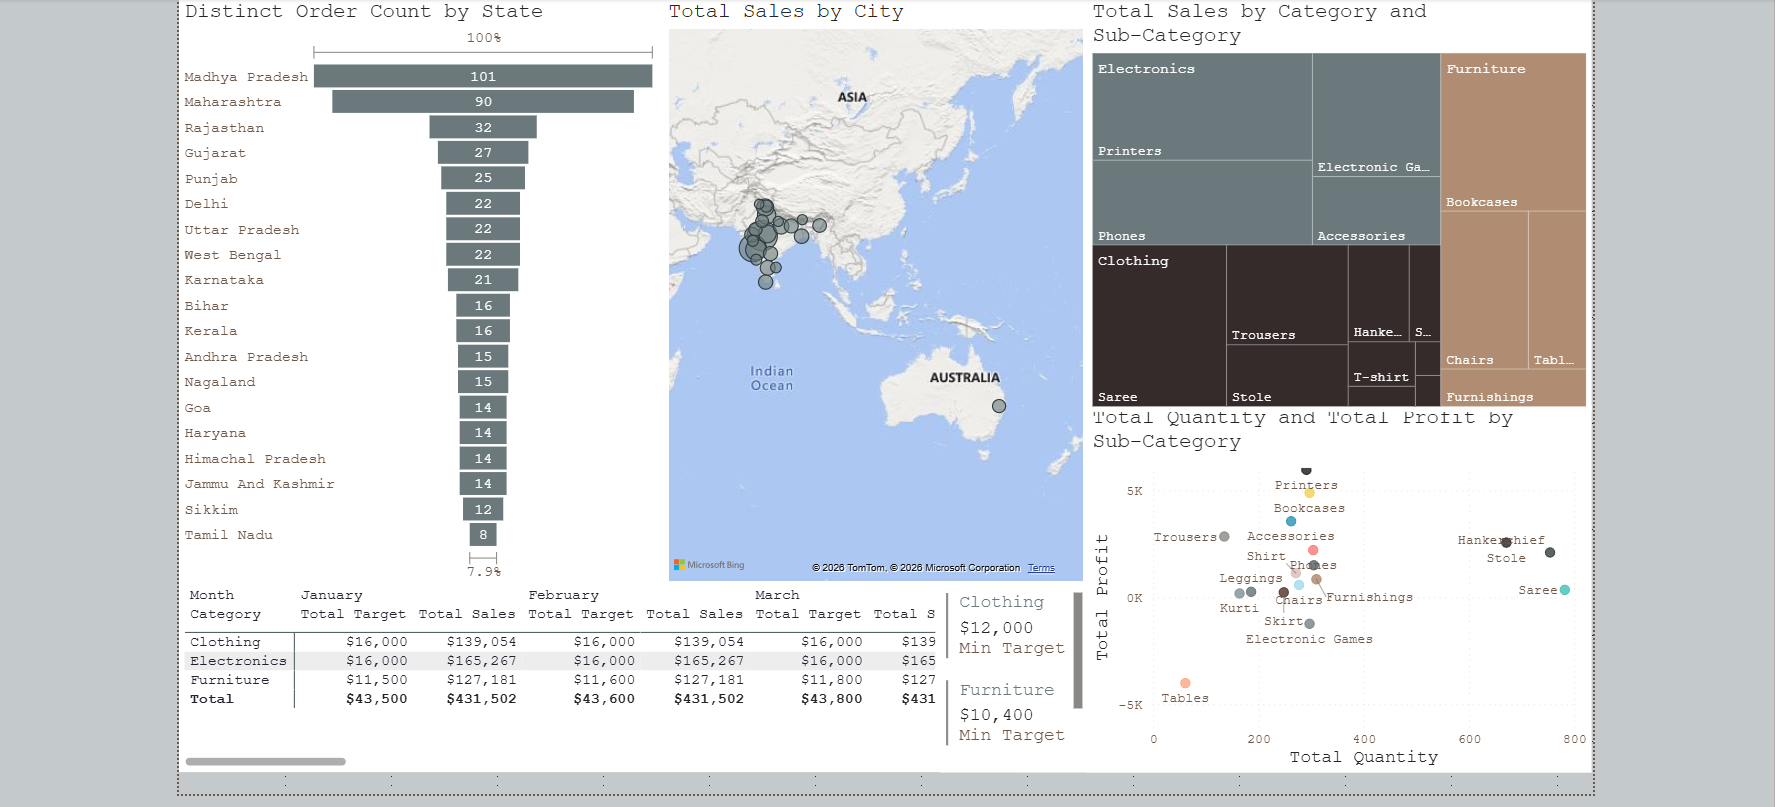

What the dashboard file says about the page in this screenshot:
{"tool":"powerbi","page":{"name":"Assignemnt 2","canvas":[1280,720],"ordinal":2},"visuals":[{"type":"scatterChart","fields":{"X":["Calculated Measures.Total Quantity"],"Y":["Calculated Measures.Total Profit"],"Series":["Order Details.Sub-Category"]},"box":[822.7,367.5,457.3,333.4],"z":0},{"type":"pivotTable","fields":{"Rows":["Sales target.Category"],"Columns":["Sales target.Month of Order Date.Variation.Date Hierarchy.Month"],"Values":["Calculated Measures.Total Target","Calculated Measures.Total Sales"]},"box":[0,526.5,689.5,174.5],"z":1000},{"type":"map","fields":{"Size":["Calculated Measures.Total Sales"],"Category":["List of Orders.City"]},"box":[438.4,0,385,532.5],"z":2000},{"type":"treemap","fields":{"Group":["Order Details.Category"],"Values":["Calculated Measures.Total Sales"],"Details":["Order Details.Sub-Category"]},"box":[822.4,0,457.2,374.1],"z":3000},{"type":"multiRowCard","fields":{"Values":["Calculated Measures.Min Target","Sales target.Category"]},"box":[689.5,532.6,134.2,168.3],"z":4000},{"type":"funnel","fields":{"Category":["List of Orders.State"],"Y":["Calculated Measures.Distinct Order Count"]},"box":[0,0,438.7,532.6],"z":5000}]}

Visuals, with their boxes on the page's 1280x720 design canvas (x1, y1, x2, y2). These are canvas units, not pixel positions in the 1775x807 screenshot, which may show the page scaled, cropped or inside an application window:
scatterChart - Calculated Measures.Total Quantity x Calculated Measures.Total Profit: 823 368 1280 701
pivotTable - Sales target.Category x Sales target.Month of Order Date.Variation.Date Hierarchy.Month: 0 526 690 701
map - Calculated Measures.Total Sales x List of Orders.City: 438 0 823 532
treemap - Order Details.Category x Calculated Measures.Total Sales: 822 0 1280 374
multiRowCard - Calculated Measures.Min Target x Sales target.Category: 690 533 824 701
funnel - List of Orders.State x Calculated Measures.Distinct Order Count: 0 0 439 533
